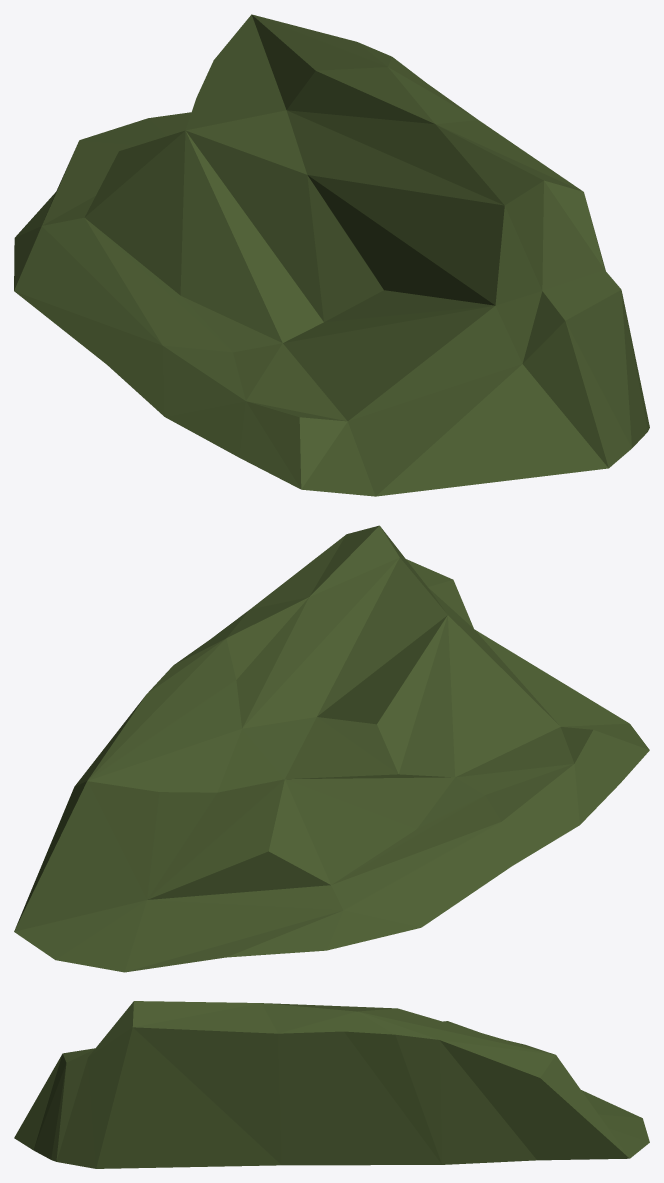
File: SM_Env_GrassPatch_03.glb
3 renders of one model, top to bottom at view 1: azimuth 30°, elevation 25°; view 2: azimuth 150°, elevation 25°; view 3: azimuth 270°, elevation 25°, orthographic. The views are drawn at different scales.
Parts seen in each view (by area): view 1: SM_Env_GrassPatch_03; view 2: SM_Env_GrassPatch_03; view 3: SM_Env_GrassPatch_03.
Part boxes in pixels (box(x1,y1,x2,y2)): SM_Env_GrassPatch_03: box(14, 14, 649, 496); SM_Env_GrassPatch_03: box(14, 525, 649, 972); SM_Env_GrassPatch_03: box(14, 1001, 649, 1168).
Size of the model in its own units: 0.00789 by 0.00435 by 0.0173.
